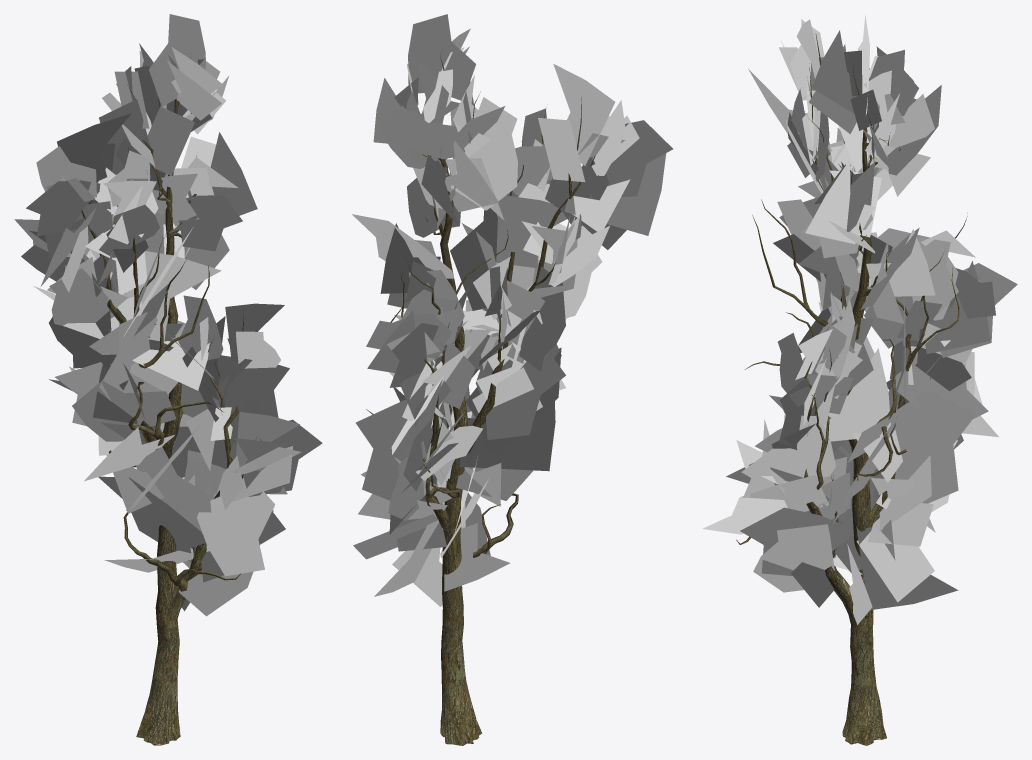
File: Tree_5063.fbx
3 views of the same model, side by side, from view 1: azimuth 30°, elevation 25°; view 2: azimuth 150°, elevation 25°; view 3: azimuth 270°, elevation 25° (orthographic).
Visible parts, largest first — view 1: Tree_5063_Viaz_AT, Tree_5063_VIAZ_bARK; view 2: Tree_5063_Viaz_AT, Tree_5063_VIAZ_bARK; view 3: Tree_5063_Viaz_AT, Tree_5063_VIAZ_bARK.
Part boxes in pixels (<box>): Tree_5063_Viaz_AT: <box>14,14,322,616</box>; Tree_5063_VIAZ_bARK: <box>81,57,256,745</box>; Tree_5063_Viaz_AT: <box>352,14,672,606</box>; Tree_5063_VIAZ_bARK: <box>366,53,595,745</box>; Tree_5063_Viaz_AT: <box>702,15,1017,624</box>; Tree_5063_VIAZ_bARK: <box>736,34,967,745</box>.
Size of the model in its own units: 19.76 by 49.03 by 19.27.
